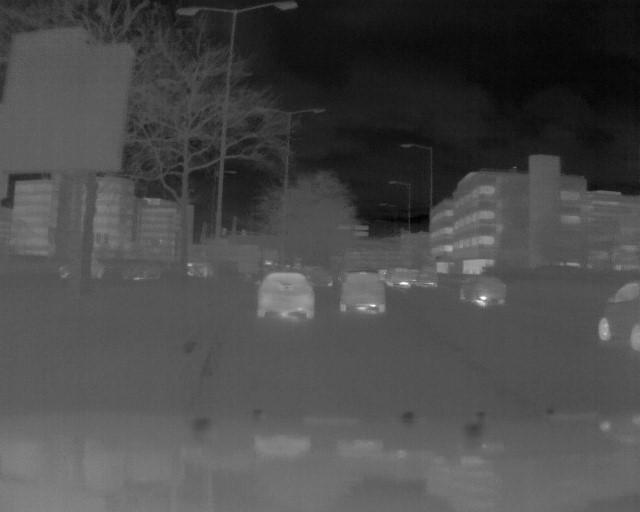car: (253, 269, 315, 324), (595, 281, 640, 351), (334, 271, 390, 318), (456, 268, 509, 308)
